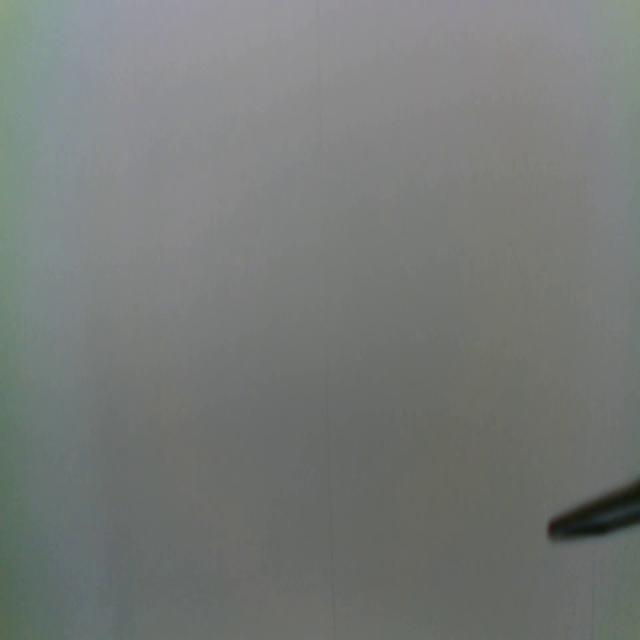crease: (314, 0, 338, 640)
